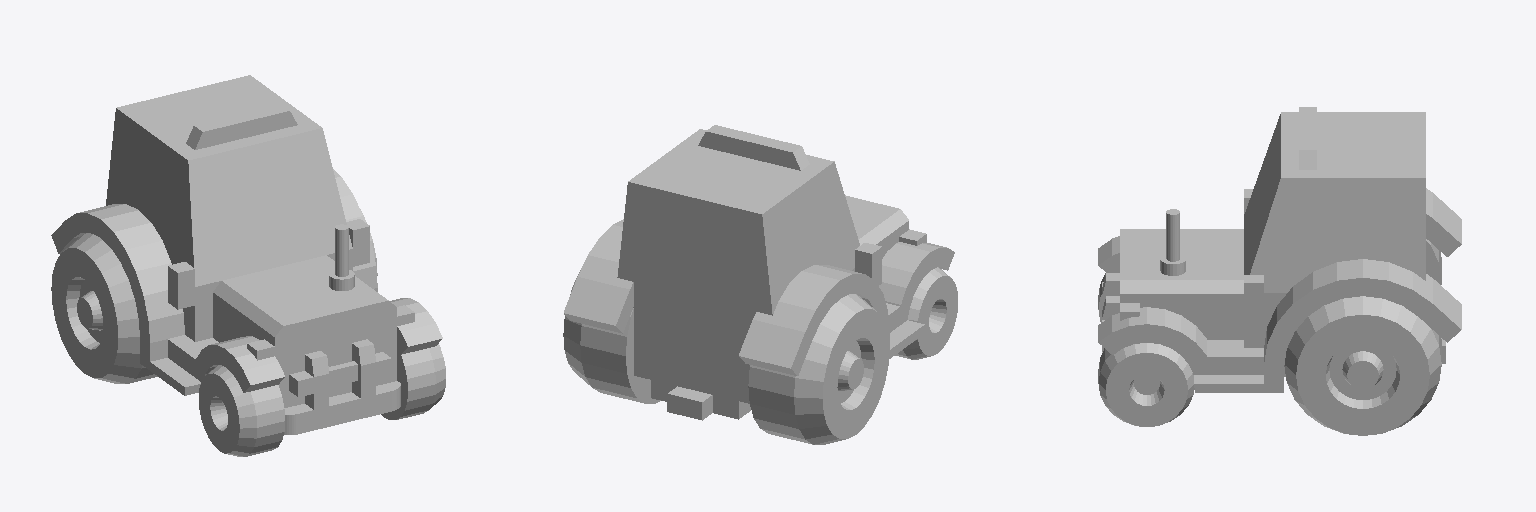
Rendered from tractorPolice.obj.
3 renders of one model, left to right at view 1: azimuth 30°, elevation 25°; view 2: azimuth 150°, elevation 25°; view 3: azimuth 270°, elevation 25°, orthographic.
Parts seen in each view (by area): view 1: body, skirts, wheel_backRight, grill, wheel_frontRight, wheel_frontLeft; view 2: body, skirts, wheel_backRight, wheel_backLeft, wheel_frontRight; view 3: body, skirts, wheel_backLeft, wheel_frontLeft, grill, wheel_backRight.
Boxes of the visible parts, <box> form: body: <box>106,75,414,407</box>; skirts: <box>51,169,442,395</box>; wheel_backRight: <box>51,233,157,383</box>; grill: <box>284,339,400,434</box>; wheel_frontRight: <box>199,365,284,456</box>; wheel_frontLeft: <box>381,344,445,419</box>; body: <box>617,125,926,420</box>; skirts: <box>564,219,954,375</box>; wheel_backRight: <box>748,294,889,444</box>; wheel_backLeft: <box>563,270,660,403</box>; wheel_frontRight: <box>895,267,957,359</box>; body: <box>1120,107,1445,376</box>; skirts: <box>1098,188,1461,392</box>; wheel_backLeft: <box>1284,296,1441,435</box>; wheel_frontLeft: <box>1098,343,1194,426</box>; grill: <box>1102,273,1119,352</box>; wheel_backRight: <box>1426,239,1441,284</box>.
Bounding box in the file's own units: 1.25 × 1.17 × 1.51.